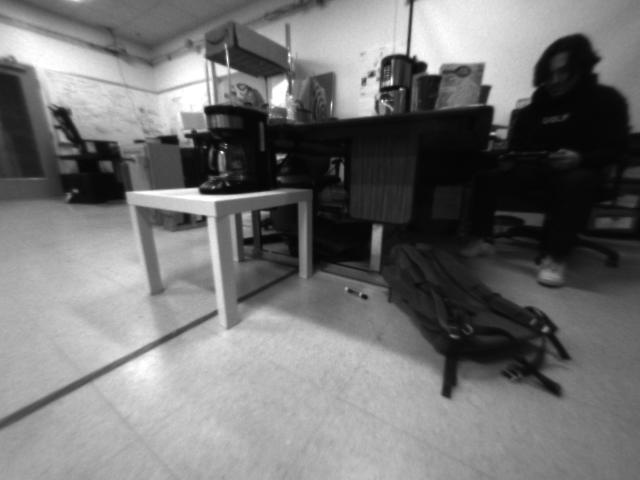coffee_pot: (196, 104, 281, 191)
